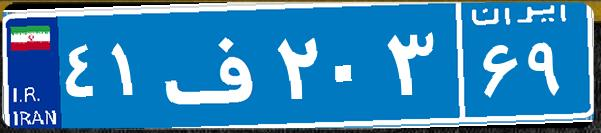0: (330, 28, 385, 110)
1: (110, 28, 158, 105)
2: (273, 28, 330, 110)
3: (385, 28, 445, 110)
4: (57, 26, 110, 107)
6: (475, 38, 525, 113)
9: (525, 38, 570, 115)
ف: (158, 15, 273, 115)
